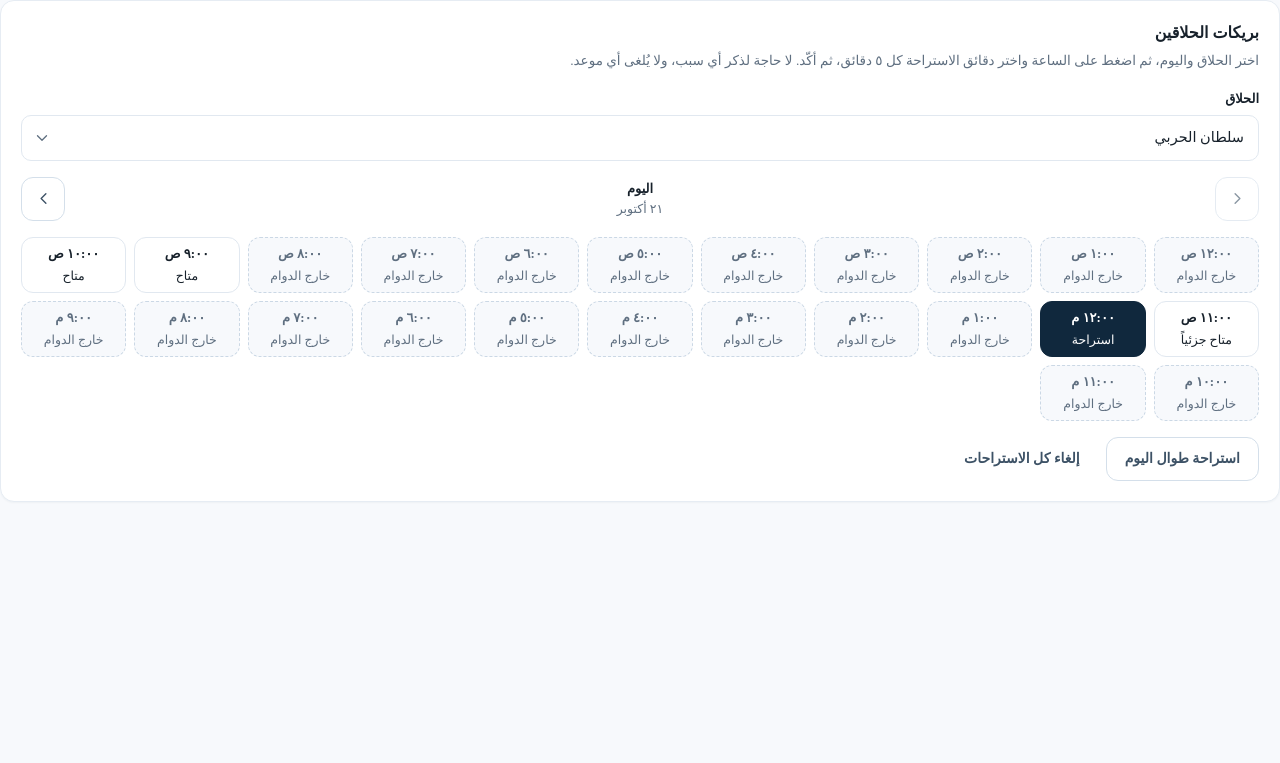
it: BarberDayCard (D-134, D-137) › explains the cap on separate breaks
The width and height of the screenshot is (1280, 763).
Click the button "٩:٠٠ ص متاح": (187, 265) [134,237,240,293]
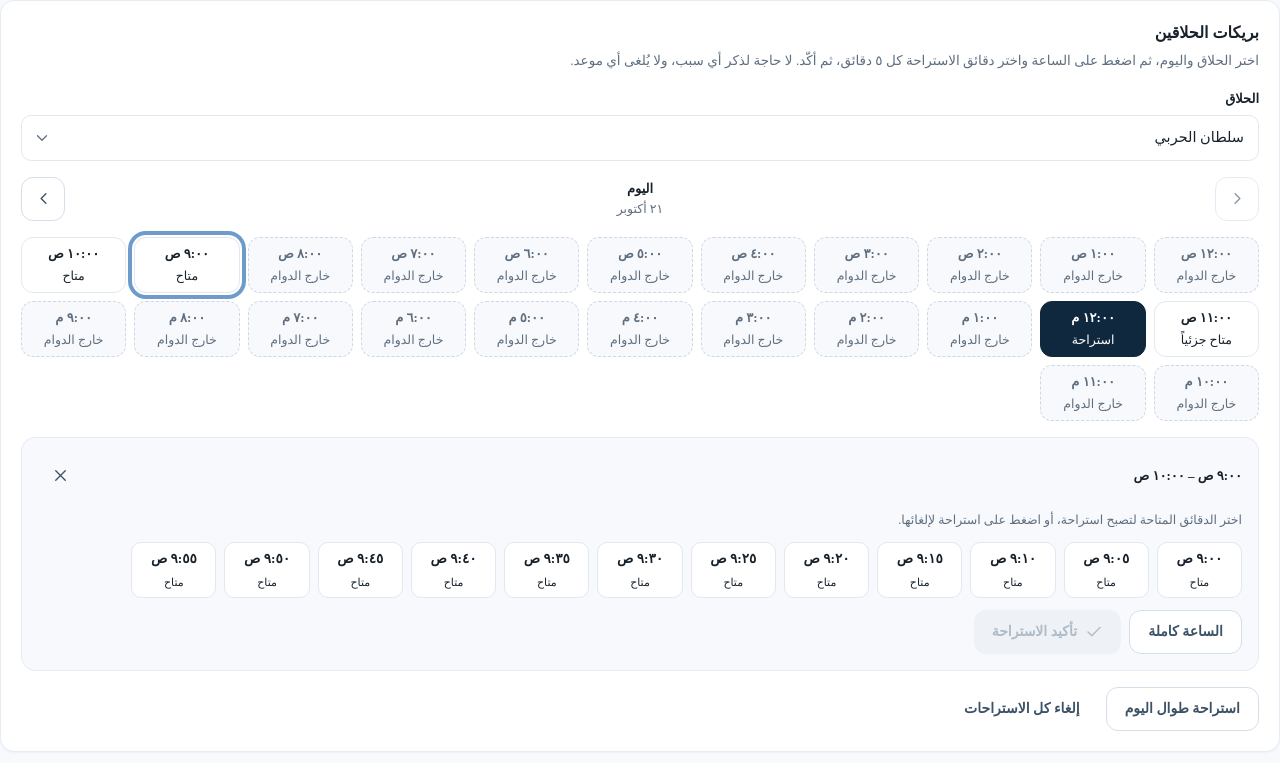
Click the button "٩:٠٠ ص متاح" below "٩:٠٠ ص – ١٠:٠٠ ص": (1199, 570) [1157,542,1242,598]
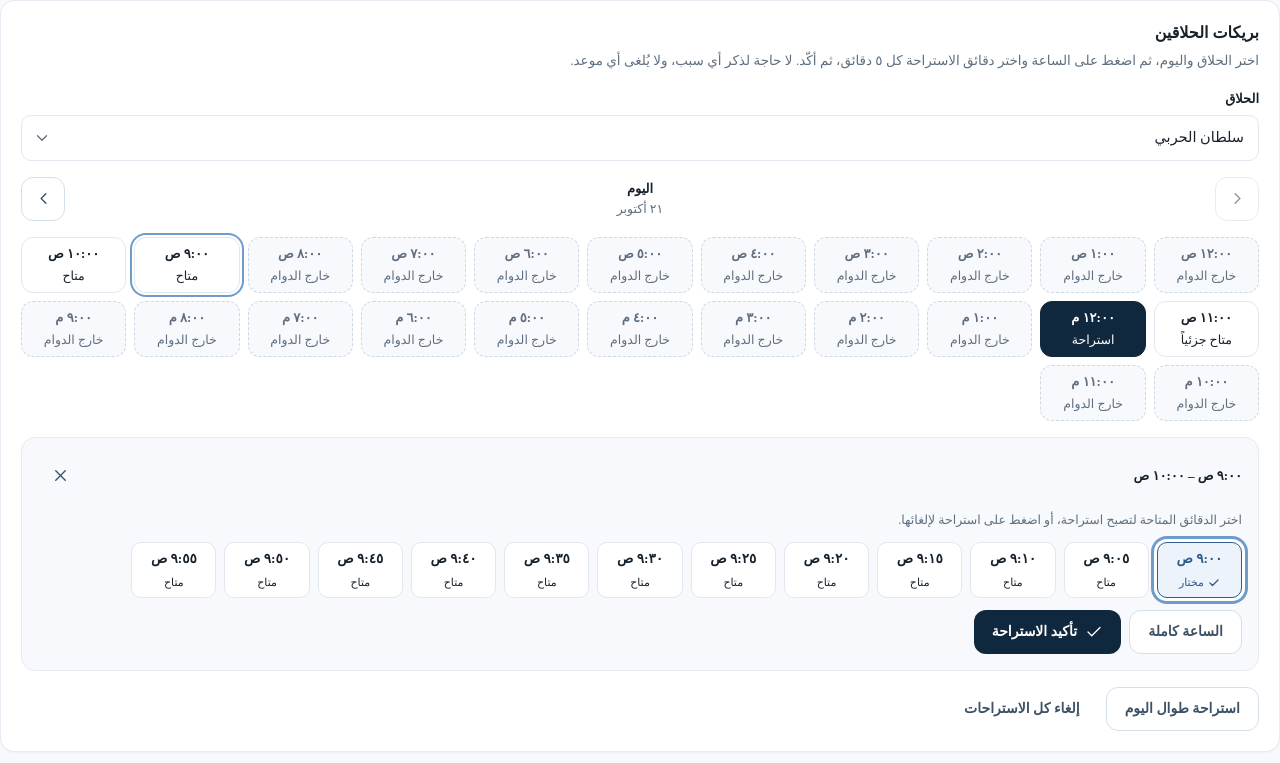
Click the button "تأكيد الاستراحة": (1047, 632) [974,610,1121,654]
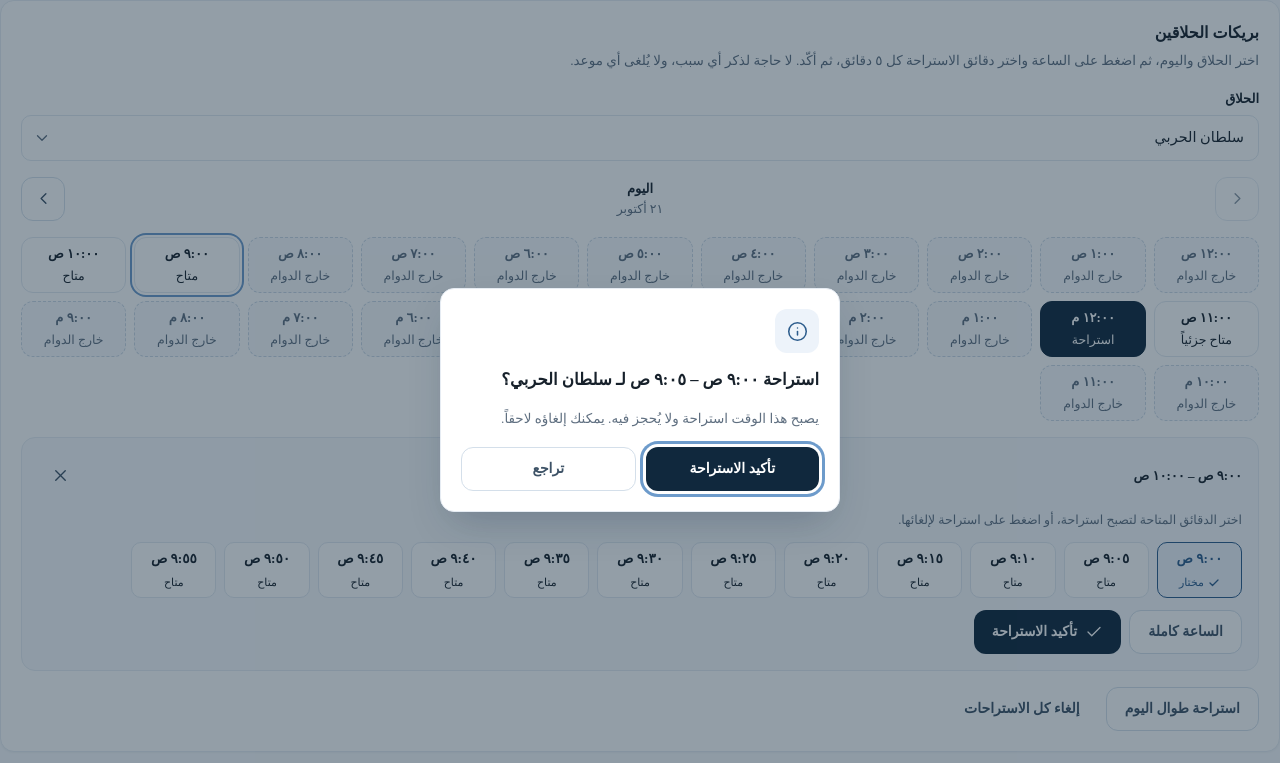
Click the button "تأكيد الاستراحة": (732, 469) [646,447,819,491]
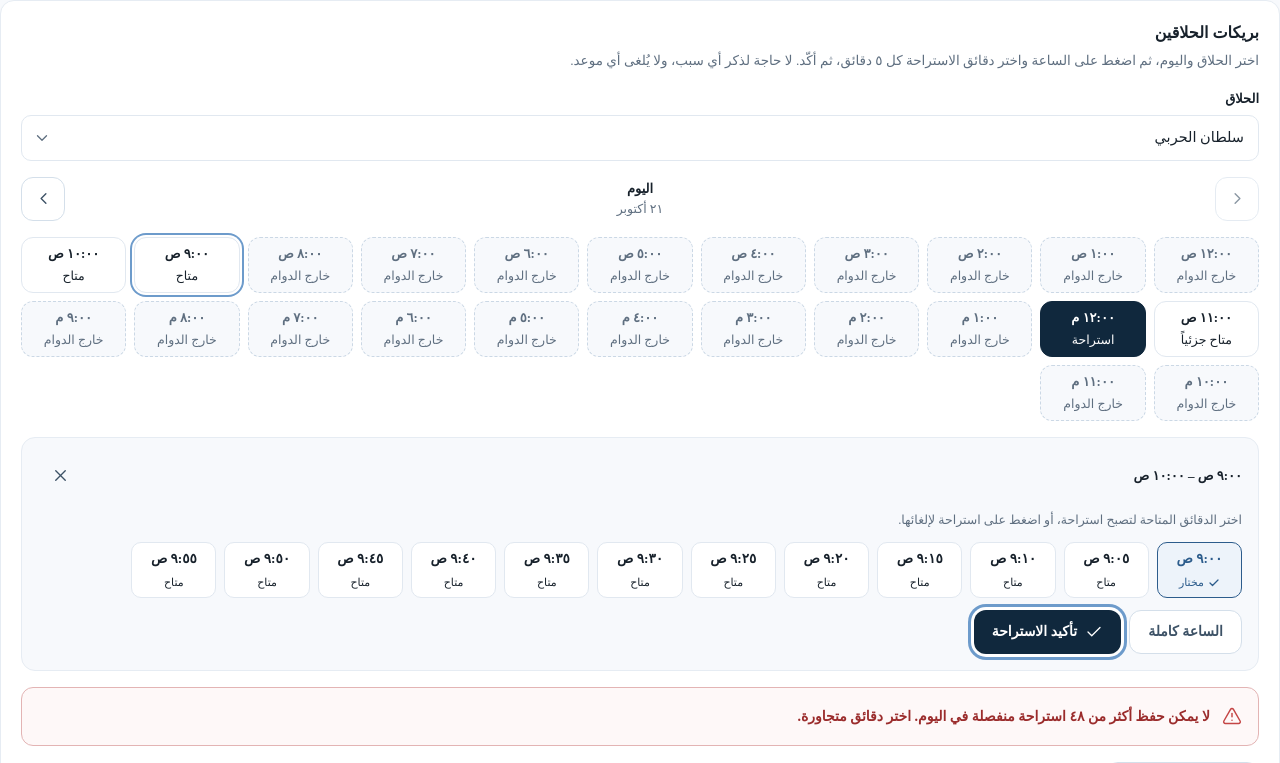
Check: the text "أكثر من ٤٨ استراحة" is shown, box [797,709,1210,724]
